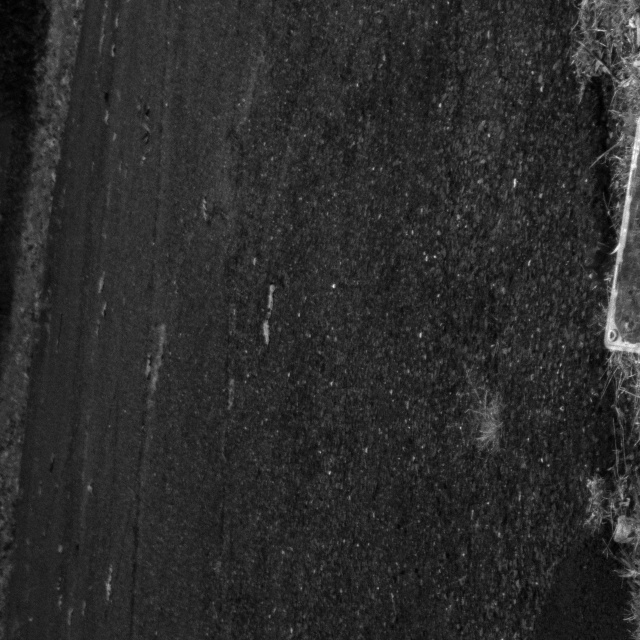container: (589, 108, 640, 365)
